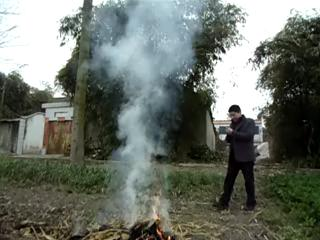yanwu: (87, 1, 204, 86)
